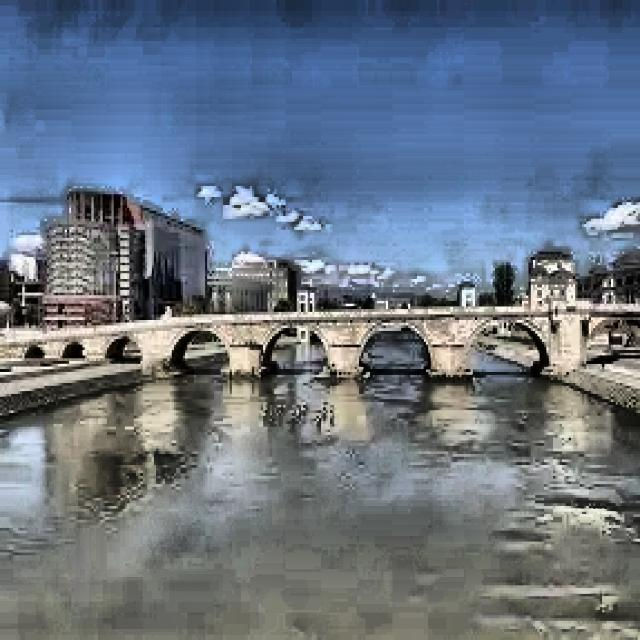stone bridge: (0, 296, 640, 392)
